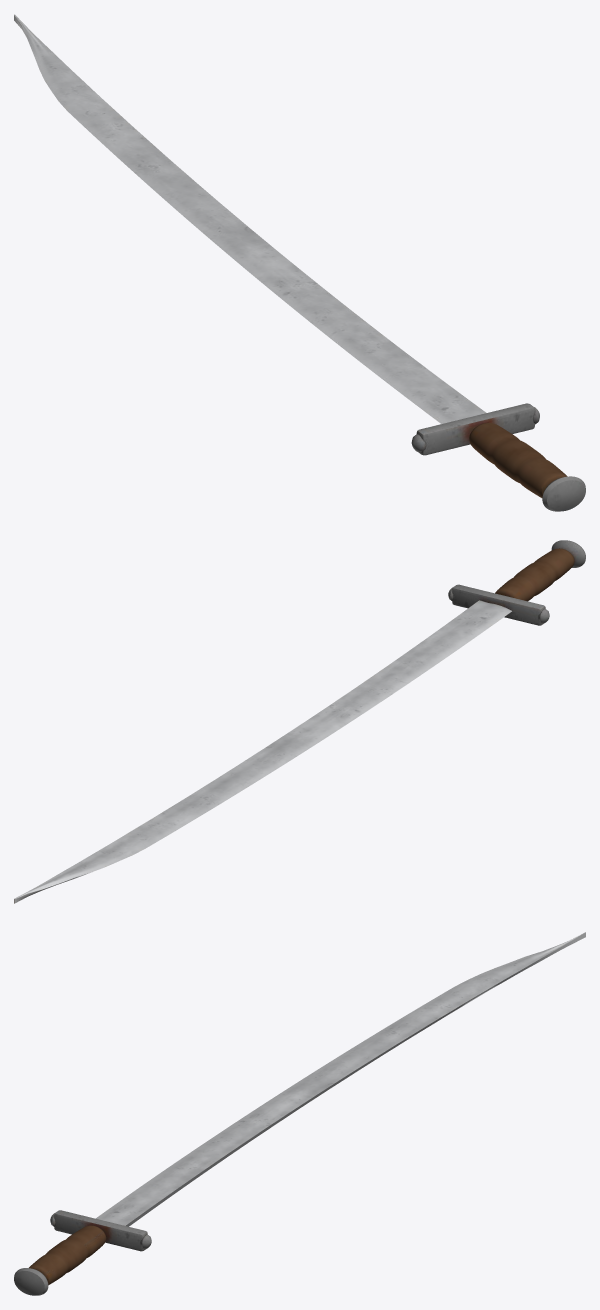
Rendered from steppe_curved_sword.glb.
The picture shows the model from 3 angles, top to bottom: view 1: azimuth 30°, elevation 25°; view 2: azimuth 150°, elevation 25°; view 3: azimuth 330°, elevation 25°; orthographic projection. The views are drawn at different scales.
Parts seen in each view (by area): view 1: steppe_curved_sword; view 2: steppe_curved_sword; view 3: steppe_curved_sword.
Part boxes in pixels (x1,y1,x2,y2): steppe_curved_sword: (14, 14, 585, 511); steppe_curved_sword: (14, 540, 585, 903); steppe_curved_sword: (14, 932, 585, 1295).
Size of the model in its own units: 0.127 by 0.0292 by 0.9919.
1 material, 1 textured.
